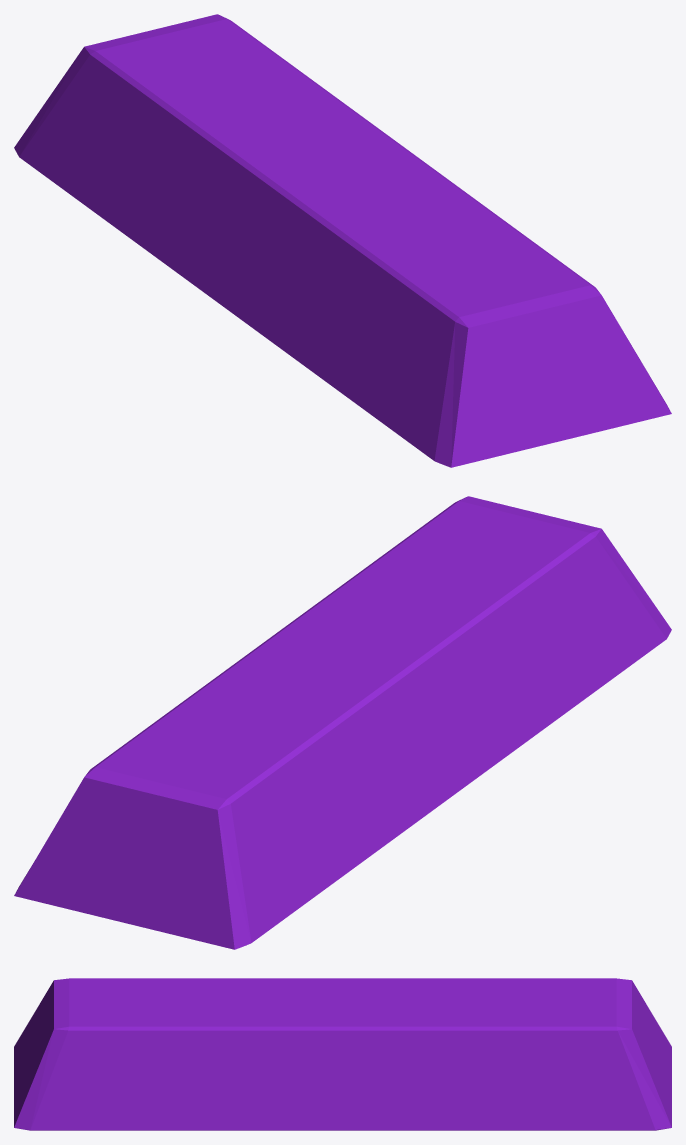
File: GuissaruimIngot.fbx
3 views of the same model, one above another, from view 1: azimuth 30°, elevation 25°; view 2: azimuth 150°, elevation 25°; view 3: azimuth 270°, elevation 25° (orthographic). The views are drawn at different scales.
Parts seen in each view (by area): view 1: Ingot; view 2: Ingot; view 3: Ingot.
Part boxes in pixels (box(x1,y1,x2,y2)): Ingot: box(14, 14, 671, 467); Ingot: box(14, 496, 671, 949); Ingot: box(14, 978, 671, 1130).
Bounding box in the file's own units: 16.82 × 8 × 54.83.
